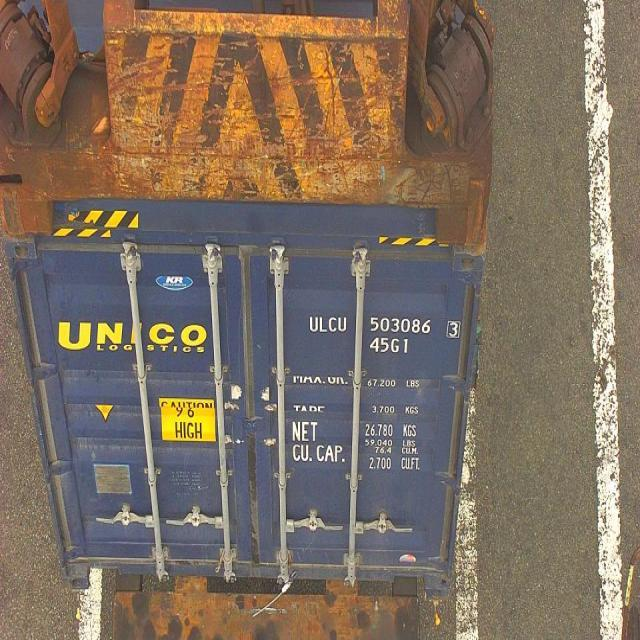ISO: (368, 336, 411, 355)
container_number: (307, 310, 462, 338)
